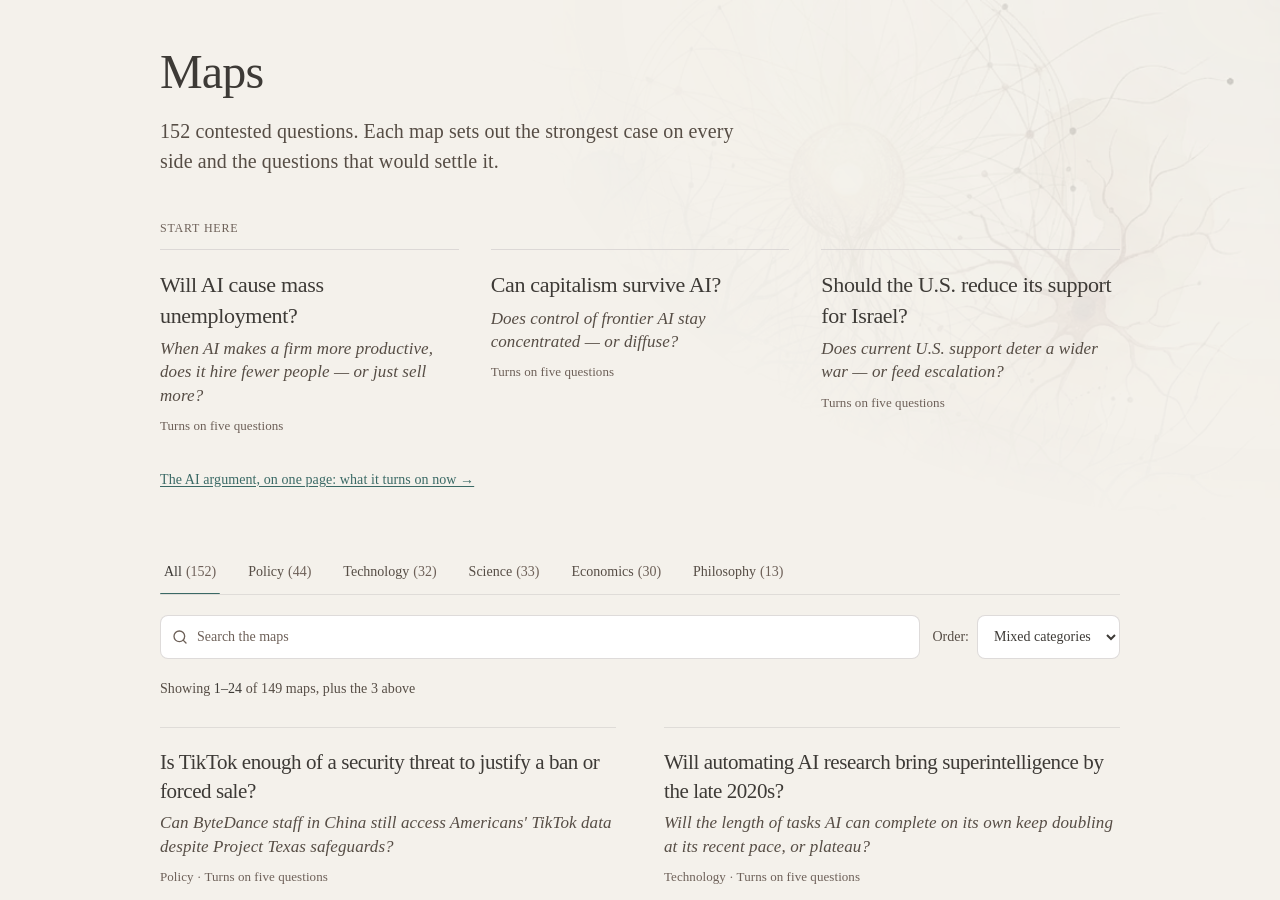
Test: /topics: search › filters as you type, counts matches and clears
This screenshot has width=1280, height=900.
Step 1. Type "nuclear" into the search field named "Search maps" → (540, 637), box [160,615,920,659]
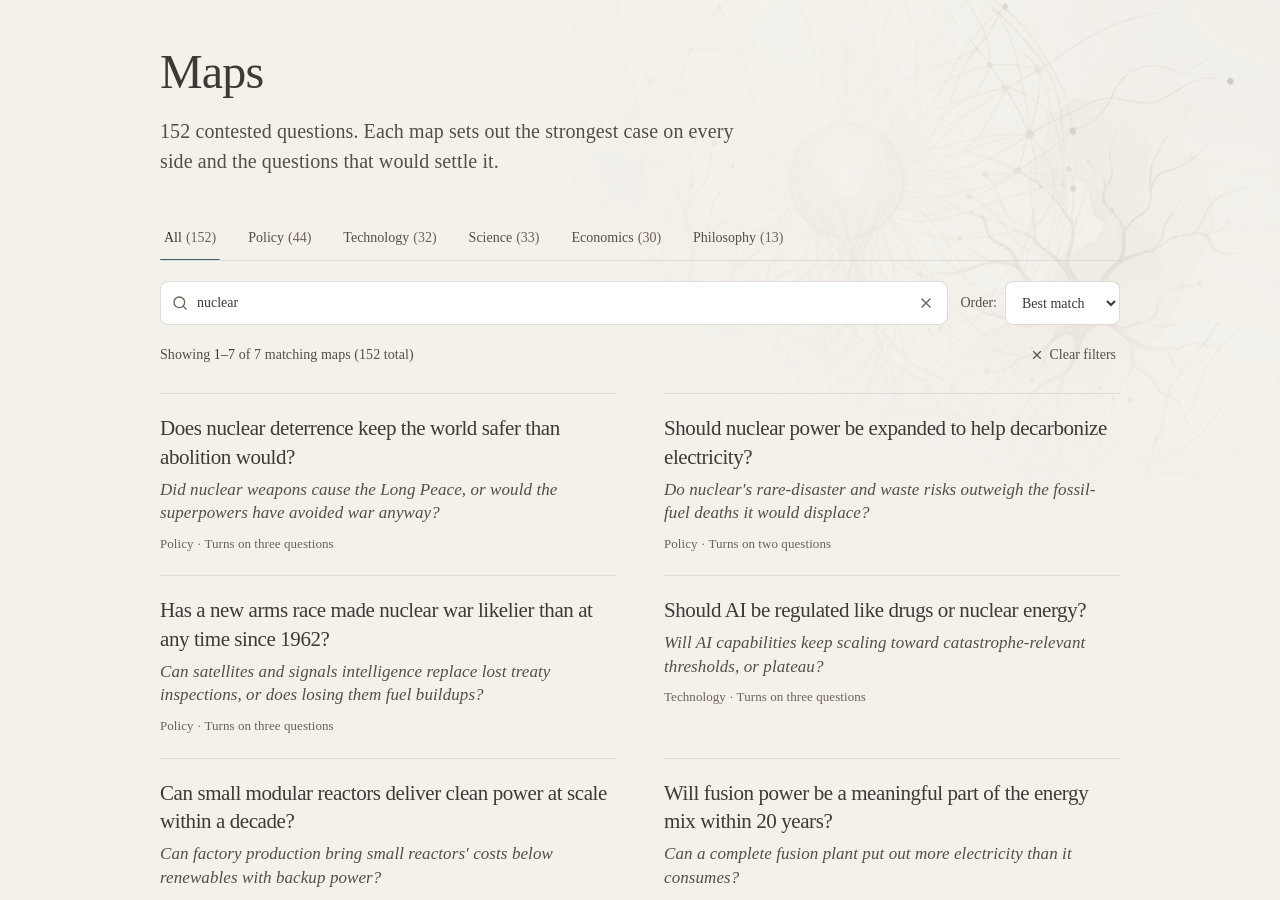
Step 2. Click the button "Clear filters" → (1073, 355), box [1026,333,1120,377]
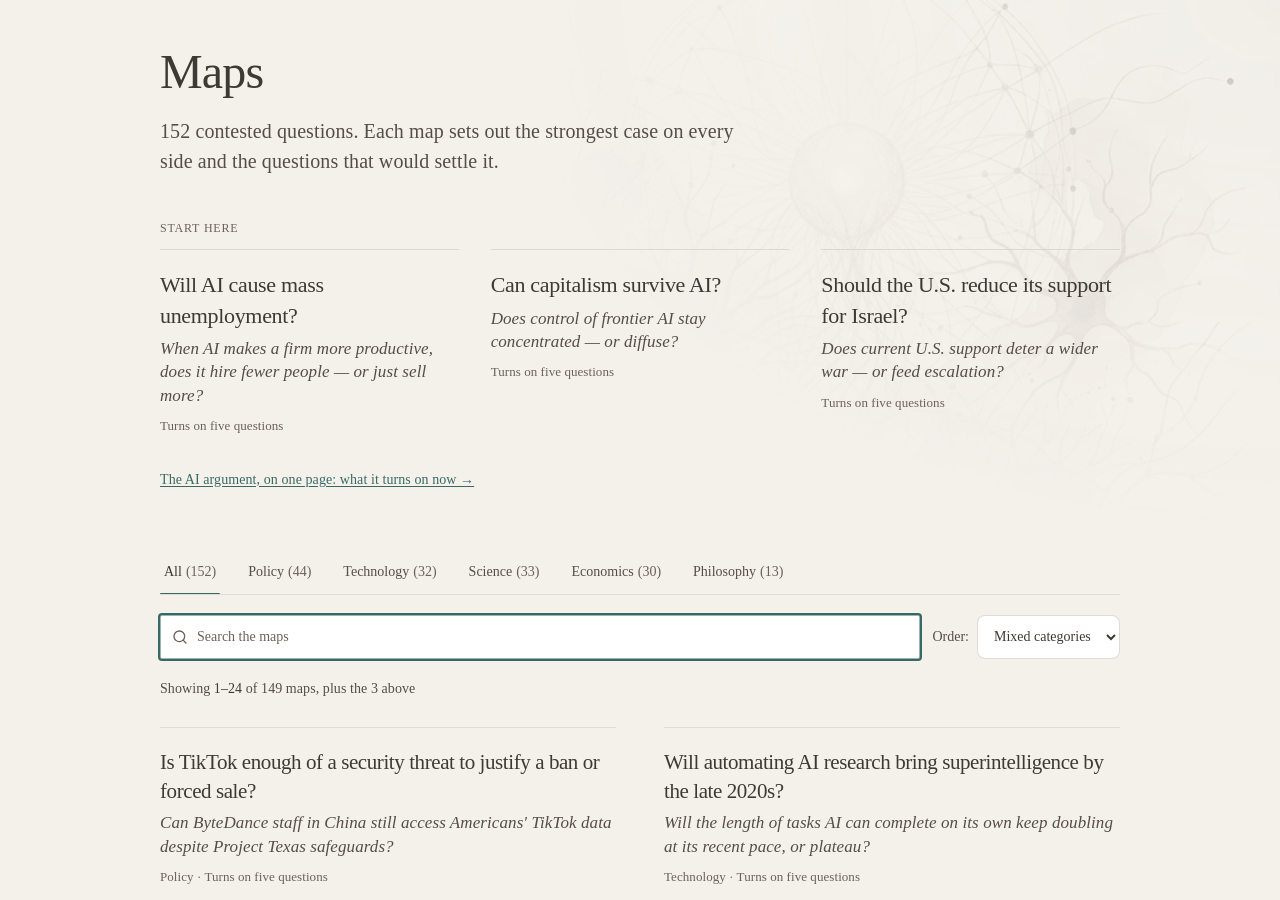
Now the heading "Start here" is shown, box [160,217,238,236]
